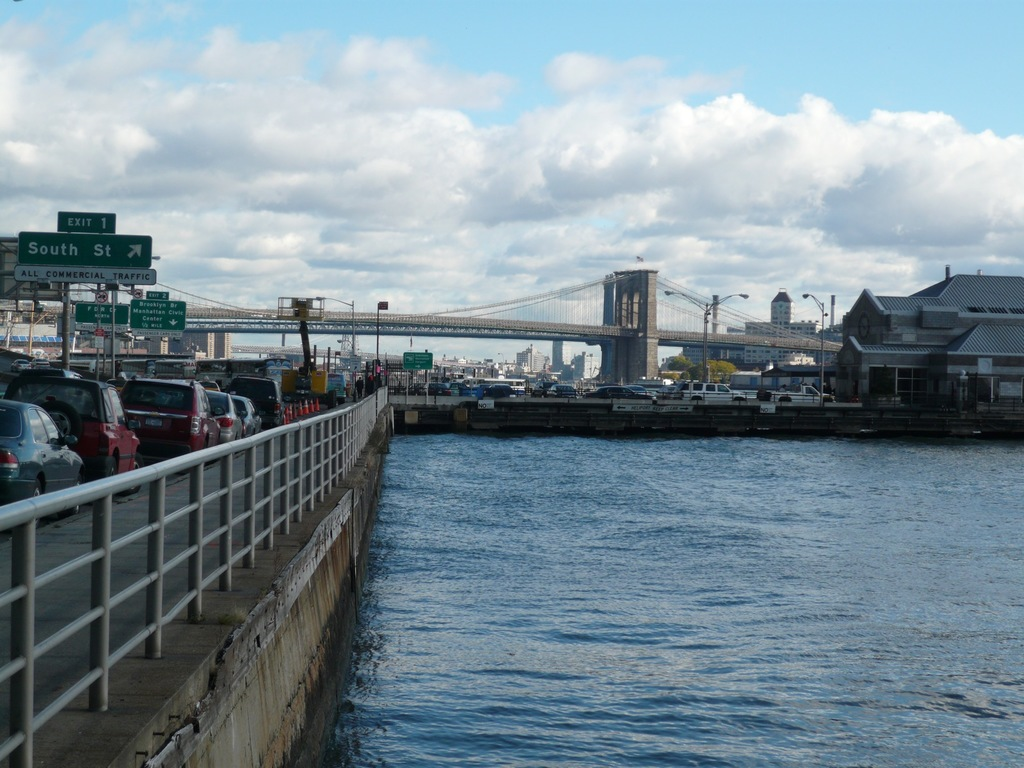Car: (24, 369, 144, 478), (0, 394, 82, 510), (112, 376, 215, 460), (208, 387, 241, 448), (678, 377, 740, 403), (228, 390, 258, 434), (580, 382, 652, 397)
